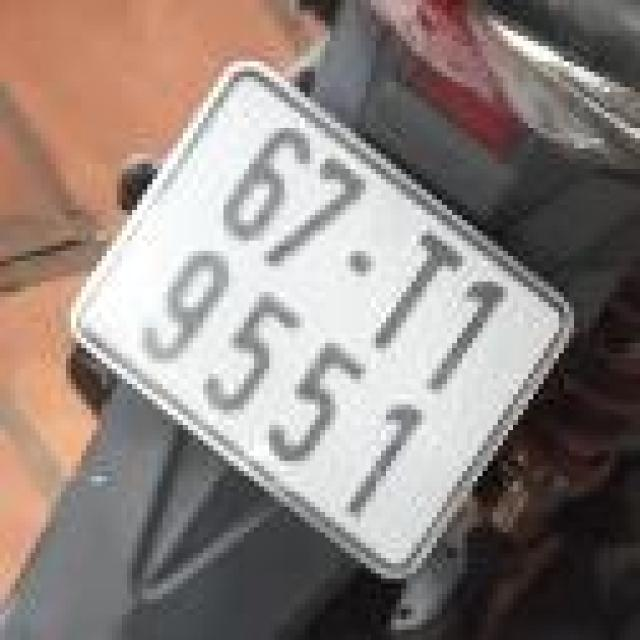1: (311, 384, 443, 541), (405, 253, 526, 420)
5: (249, 319, 388, 487), (186, 279, 310, 434)
6: (204, 111, 330, 261)
7: (249, 140, 384, 298)
9: (126, 228, 251, 382)
T: (345, 214, 476, 377)
